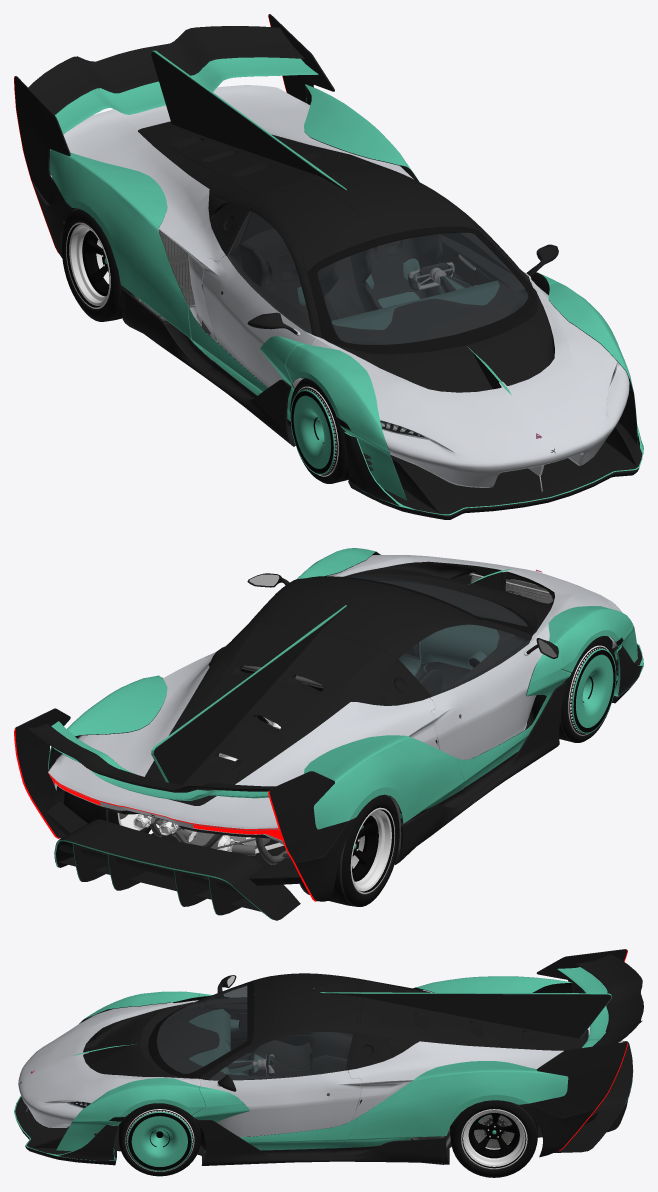
Rendered from strix_gt7_hero.glb.
3 renders of one model, top to bottom at view 1: azimuth 30°, elevation 25°; view 2: azimuth 150°, elevation 25°; view 3: azimuth 270°, elevation 25°, orthographic. The views are drawn at different scales.
Visible parts, largest first — view 1: part_CarbonFibre, body, part_CarPaintSecondary, part_glass, part_InteriorFabric, wing, wheel_RR, part_Black_Rubber, wheel_FR, part_InteriorFabricAccent, part_Radiator; view 2: part_CarbonFibre, body, part_CarPaintSecondary, part_glass, wheel_RR, wheel_FR, wing, part_InteriorFabric, part_InteriorFabricAccent, taillight_bar, part_Aluminum, wheel_RL (+4 smaller); view 3: part_CarbonFibre, part_CarPaintSecondary, body, part_glass, part_InteriorFabric, wheel_RL, wheel_FL, wing, part_InteriorFabricAccent, part_Black_Rubber.
Part boxes in pixels (x1,y1,x2,y2): part_CarbonFibre: (14,14,643,519); body: (50,85,629,491); part_CarPaintSecondary: (49,50,643,515); part_glass: (228,211,616,439); part_InteriorFabric: (227,210,528,344); wing: (28,26,318,134); wheel_RR: (61,209,131,321); part_Black_Rubber: (307,226,533,430); wheel_FR: (290,378,349,483); part_InteriorFabricAccent: (297,258,499,329); part_Radiator: (139,229,195,316); part_CarbonFibre: (15,552,643,920); body: (48,555,621,844); part_CarPaintSecondary: (48,548,643,919); part_glass: (341,576,527,695); wheel_RR: (282,795,399,906); wheel_FR: (529,636,616,742); wing: (26,721,275,800); part_InteriorFabric: (339,580,529,696); part_InteriorFabricAccent: (399,617,499,676); taillight_bar: (14,729,316,901); part_Aluminum: (150,665,461,864); wheel_RL: (64,791,163,833); part_CarbonFibre: (15,949,632,1165); part_CarPaintSecondary: (14,976,633,1160); body: (18,990,622,1136); part_glass: (67,984,353,1108); part_InteriorFabric: (156,984,353,1080); wheel_RL: (446,1100,537,1177); wheel_FL: (119,1103,200,1176); wing: (557,954,643,1047); part_InteriorFabricAccent: (189,1009,274,1075); part_Black_Rubber: (109,982,254,1121).
Bounding box in the file's own units: 2.21 × 1.23 × 5.18.
Materials: 30 (4 with a texture image).
